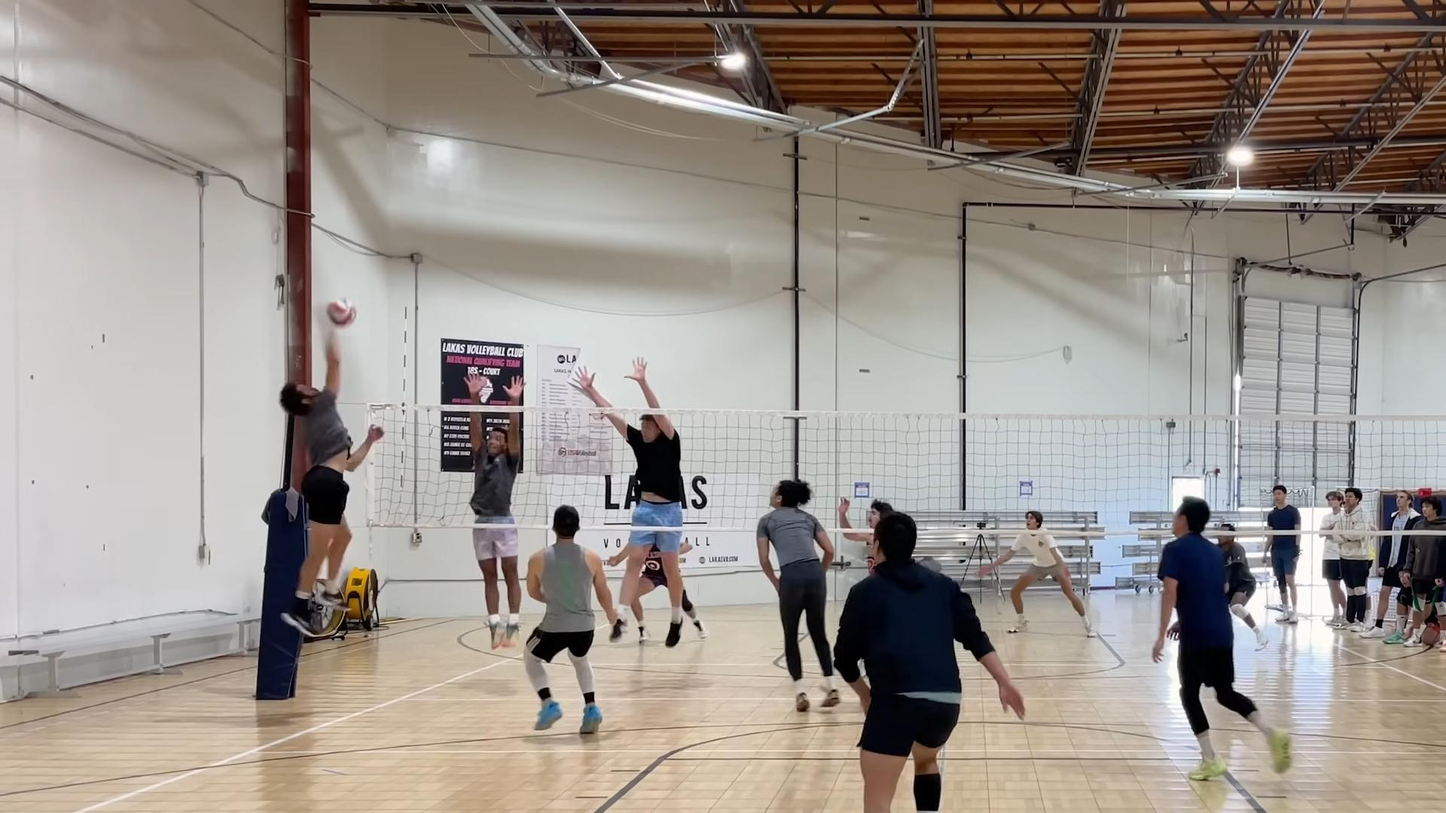attacco: (269, 320, 385, 645)
muro: (566, 358, 699, 659), (468, 364, 533, 660)
